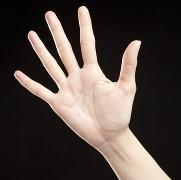pa-: (13, 5, 141, 129)
